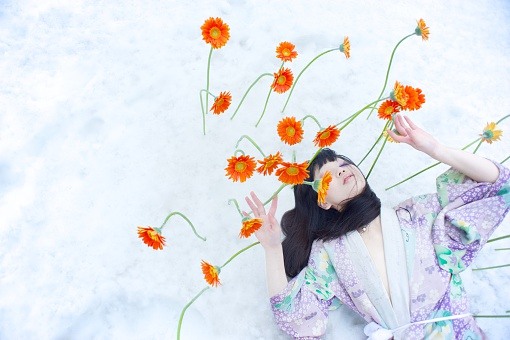deitado: (251, 148, 396, 312)
